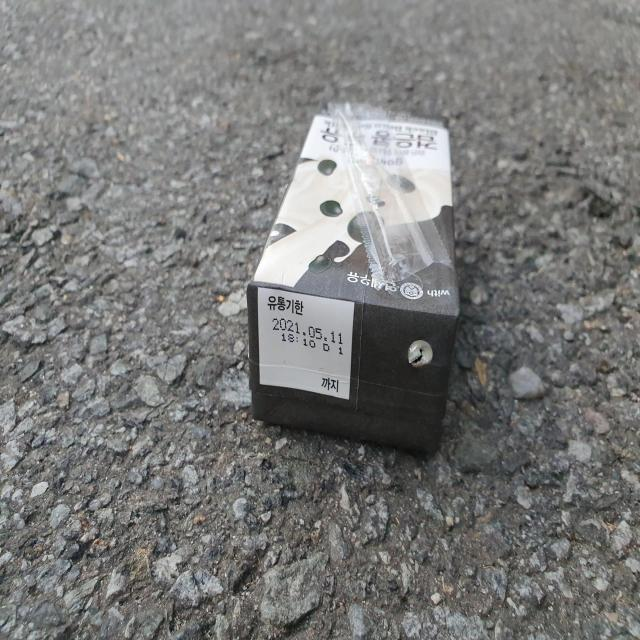paperpack: (246, 103, 460, 452)
